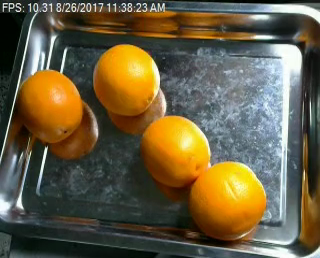Orange: (189, 160, 266, 240), (140, 115, 211, 185), (93, 44, 161, 116), (16, 69, 83, 142)
